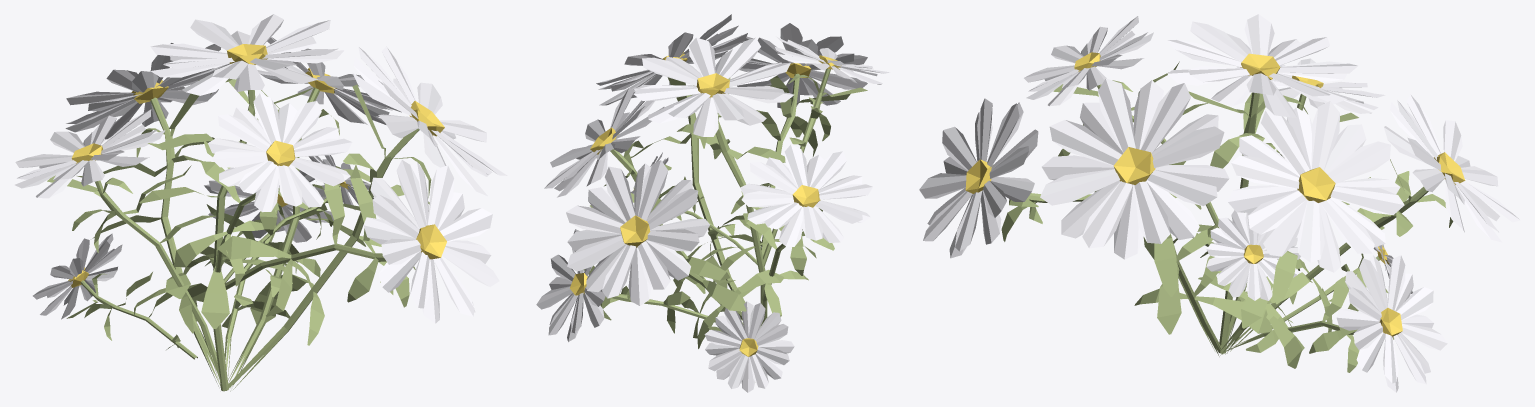
The picture shows the model from 3 angles, left to right: view 1: azimuth 30°, elevation 25°; view 2: azimuth 150°, elevation 25°; view 3: azimuth 270°, elevation 25°; orthographic projection. The views are drawn at different scales.
Parts seen in each view (by area): view 1: c88faac7; view 2: c88faac7; view 3: c88faac7.
Part boxes in pixels (box(x1,y1,x2,y2)): c88faac7: box(15, 14, 507, 391); c88faac7: box(536, 14, 889, 392); c88faac7: box(919, 14, 1520, 392).
Bounding box in the file's own units: 0.154 × 0.1261 × 0.2058.
